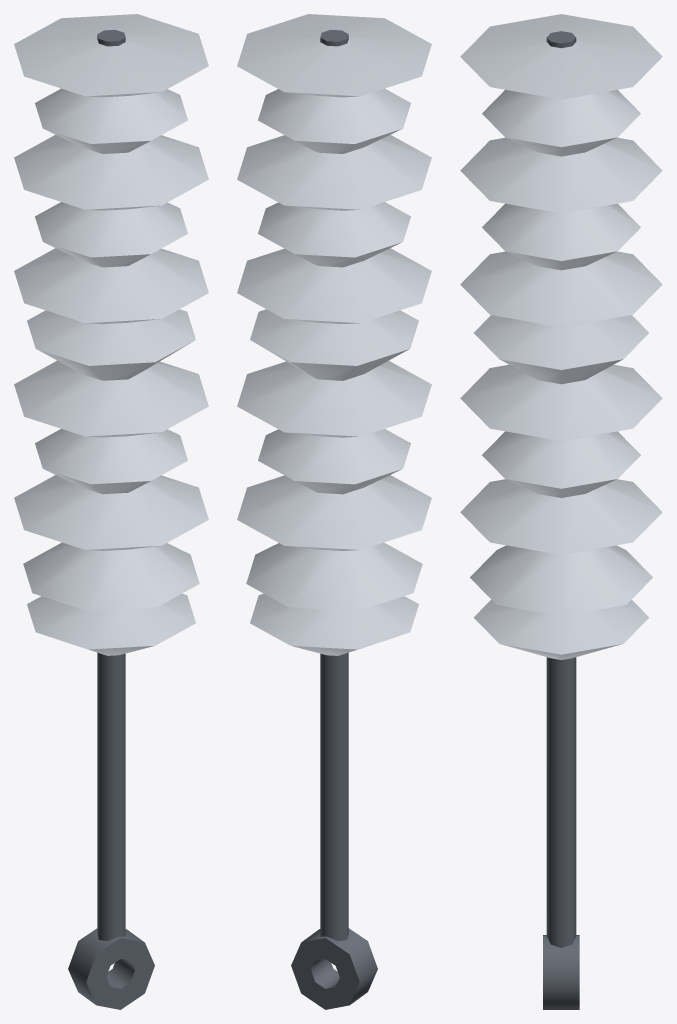
File: misc_brush_low_poly.glb
3 views of the same model, side by side, from view 1: azimuth 30°, elevation 25°; view 2: azimuth 150°, elevation 25°; view 3: azimuth 270°, elevation 25° (orthographic).
Parts seen in each view (by area): view 1: misc_brush_low_poly; view 2: misc_brush_low_poly; view 3: misc_brush_low_poly.
Boxes of the visible parts, x1=… form: misc_brush_low_poly: x1=14, y1=14, x2=208, y2=1009; misc_brush_low_poly: x1=237, y1=14, x2=431, y2=1009; misc_brush_low_poly: x1=460, y1=14, x2=662, y2=1009.
Bounding box in the file's own units: 3.67 × 19.41 × 3.67.
1 material, 1 textured.
